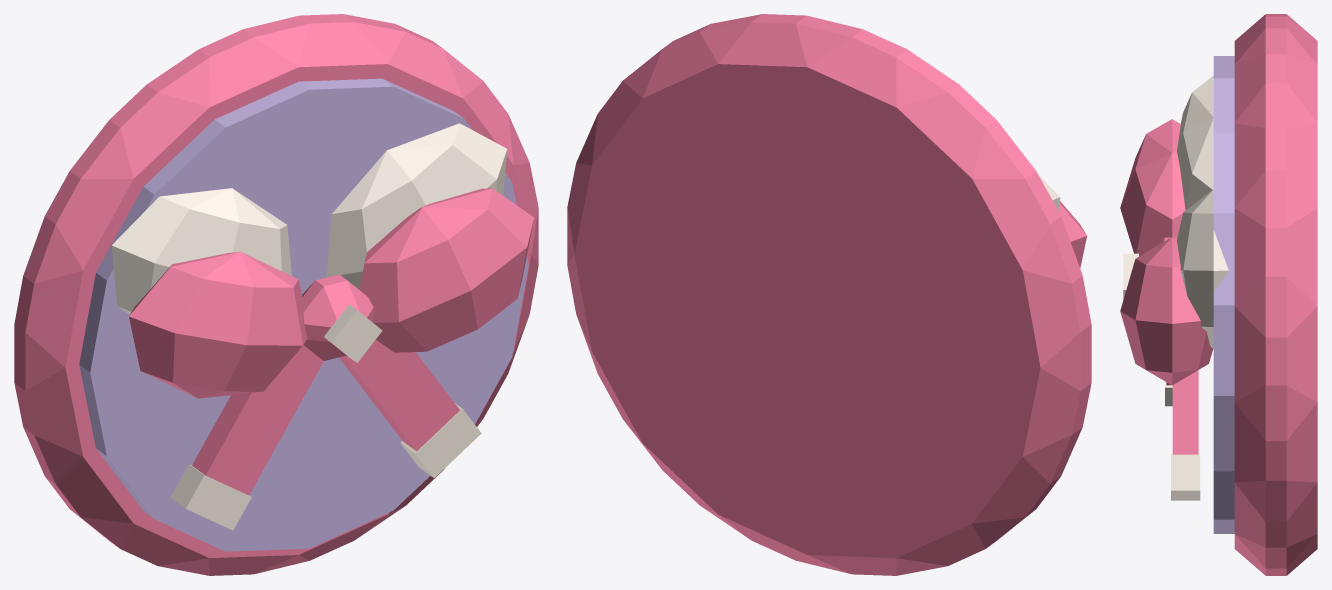
File: CleanACat_Prop_BowButtonPinkDouble.fbx
3 renders of one model, left to right at view 1: azimuth 30°, elevation 25°; view 2: azimuth 150°, elevation 25°; view 3: azimuth 270°, elevation 25°, orthographic. The views are drawn at different scales.
Visible parts, largest first — view 1: CleanACat_Prop_BowButtonPinkDouble; view 2: CleanACat_Prop_BowButtonPinkDouble; view 3: CleanACat_Prop_BowButtonPinkDouble.
Boxes of the visible parts, x1,y1,x2,y2 form: CleanACat_Prop_BowButtonPinkDouble: (14, 14, 538, 575); CleanACat_Prop_BowButtonPinkDouble: (567, 14, 1091, 575); CleanACat_Prop_BowButtonPinkDouble: (1120, 14, 1317, 575).
Size of the model in its own units: 1.08 by 1.08 by 0.38.
Materials: 1 (1 with a texture image).
